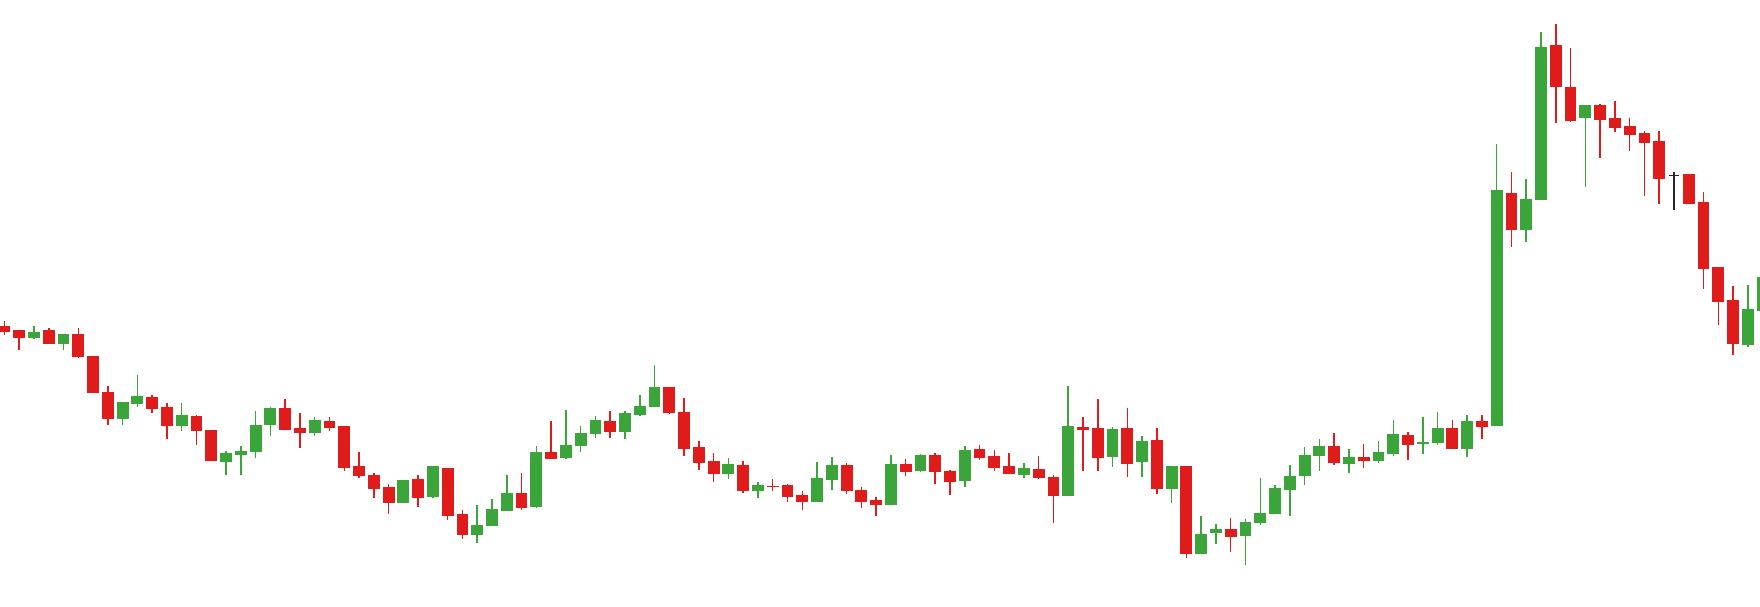sell: (959, 384, 1107, 488)
